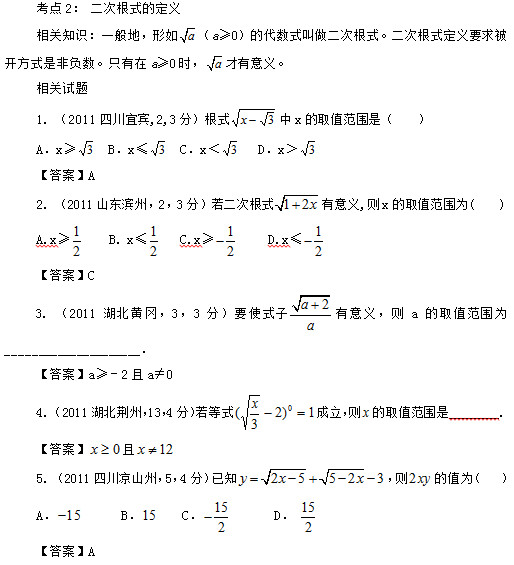division: (289, 311, 332, 320), (300, 511, 318, 520), (214, 514, 228, 521), (223, 238, 238, 244), (249, 411, 259, 419), (315, 237, 324, 245), (73, 237, 81, 245), (149, 237, 158, 244)
sqrt: (232, 104, 285, 131), (272, 192, 321, 216), (323, 464, 368, 490), (293, 285, 331, 315), (265, 466, 308, 489), (244, 389, 260, 437), (79, 134, 105, 159), (298, 139, 324, 161), (152, 138, 179, 158), (257, 106, 278, 127), (180, 22, 196, 48), (206, 52, 225, 72), (224, 140, 244, 158)
